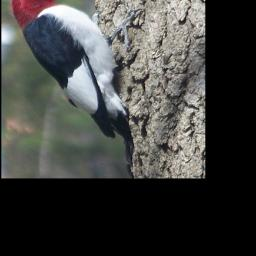Woodpecker: (10, 0, 148, 144)
